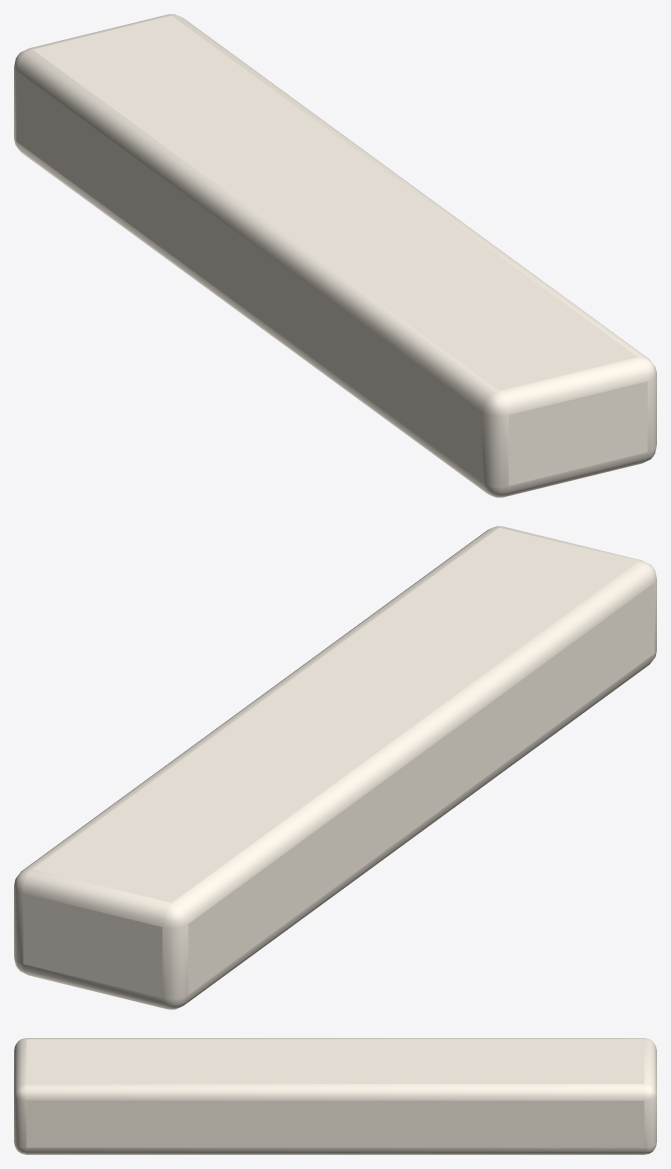
The model's file is music-key-white.glb.
The picture shows the model from 3 angles, top to bottom: view 1: azimuth 30°, elevation 25°; view 2: azimuth 150°, elevation 25°; view 3: azimuth 270°, elevation 25°; orthographic projection. The views are drawn at different scales.
Parts seen in each view (by area): view 1: music-key-white; view 2: music-key-white; view 3: music-key-white.
Boxes of the visible parts, x1=… form: music-key-white: x1=14, y1=14, x2=656, y2=497; music-key-white: x1=14, y1=526, x2=656, y2=1009; music-key-white: x1=14, y1=1038, x2=656, y2=1154.
Bounding box in the file's own units: 0.94 × 0.55 × 4.6.
1 material, 1 textured.
